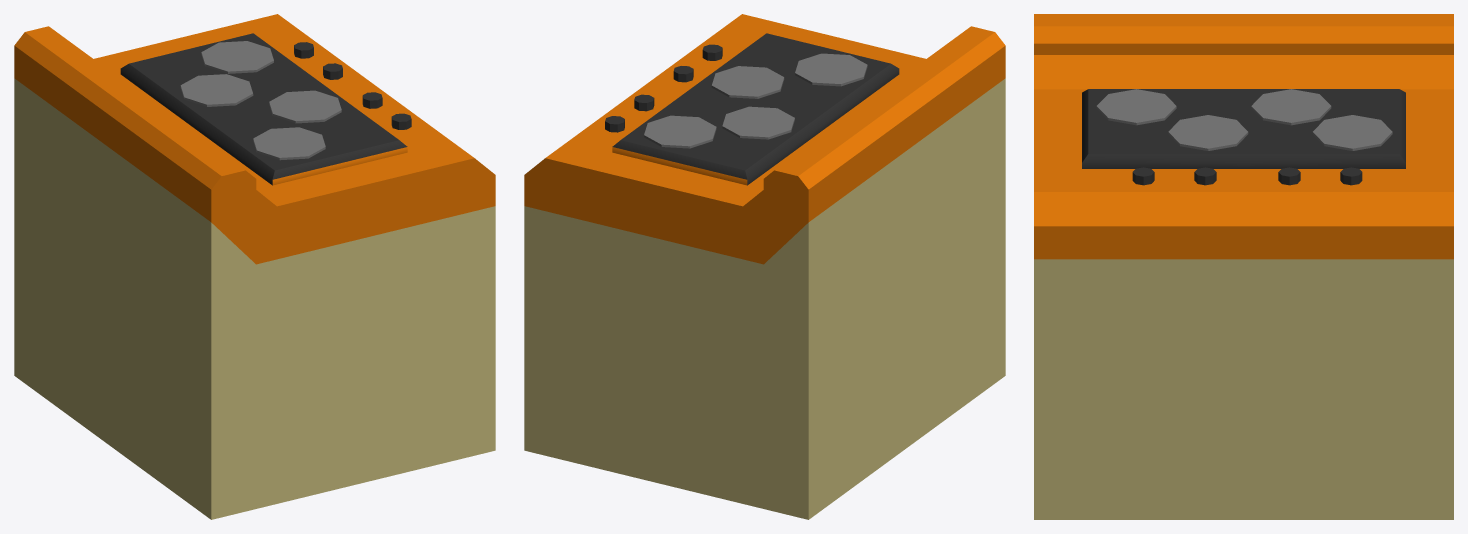
The model's file is heater.fbx.
3 views of the same model, side by side, from view 1: azimuth 30°, elevation 25°; view 2: azimuth 150°, elevation 25°; view 3: azimuth 270°, elevation 25° (orthographic). The views are drawn at different scales.
Visible parts, largest first — view 1: pCube6; view 2: pCube6; view 3: pCube6.
Part boxes in pixels (x1,y1,x2,y2): pCube6: (14,14,495,519); pCube6: (524,14,1005,519); pCube6: (1034,14,1453,519).
Size of the model in its own units: 5 by 5.73 by 6.
